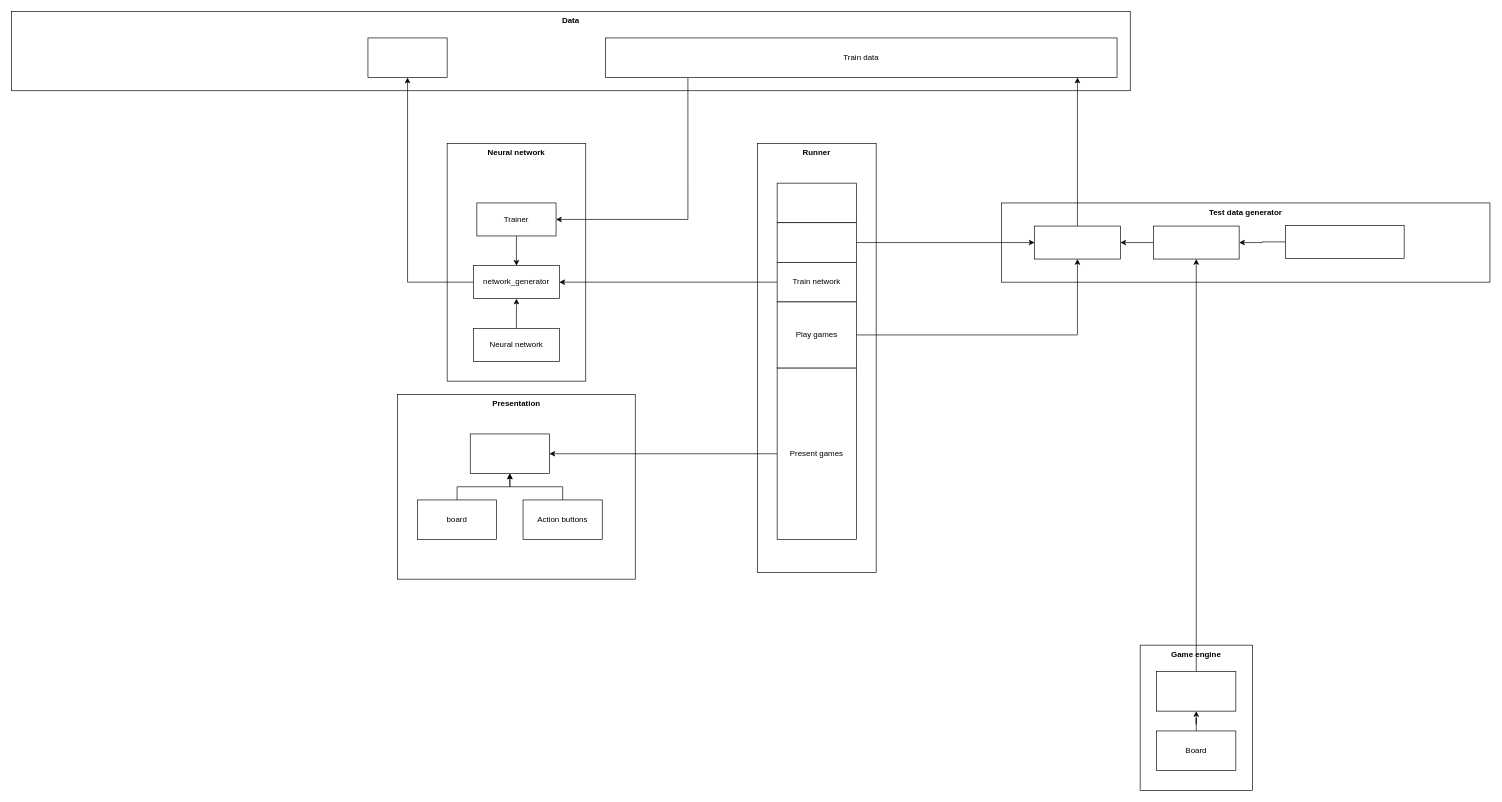
Some shapes in this 1502 by 802 pixel diagram are drawn without their labels. Here are the shapes that lost their labels. From the top down, the centre of each, then its label:
the point at 407,57: Trained network
the point at 816,202: Argument handling
the point at 816,242: Generate test data
the point at 1077,242: data_generator
the point at 1196,242: player
the point at 1344,241: Algorithm/trained_network
the point at 509,453: Main screen
the point at 1196,691: Game
